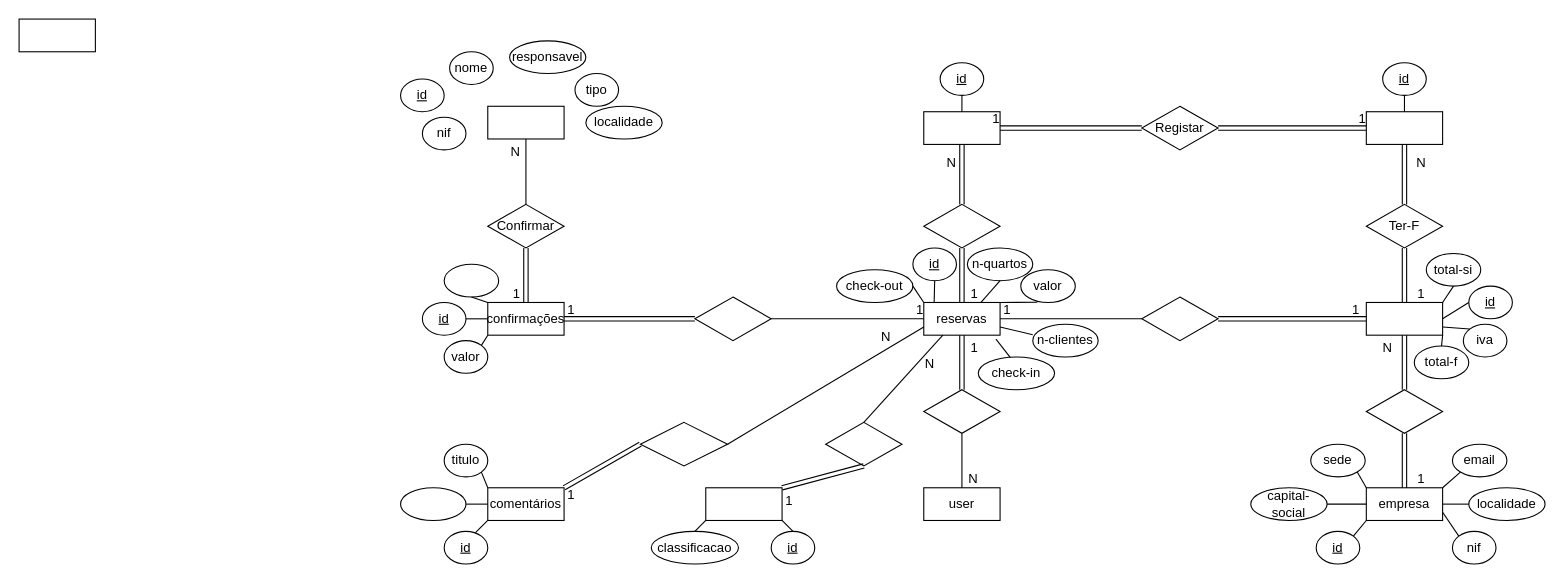
Some shapes in this 1564 by 583 pixel diagram are drawn without their labels. The centre of each missing label's shape, as x and y in pixels:
"avaliação" goes at (x=743, y=503).
"descricao" goes at (x=432, y=503).
"estado" goes at (x=471, y=280).
"Faturar" goes at (x=1179, y=318).
"faturas" goes at (x=1404, y=318).
"fornecedor" goes at (x=525, y=122).
"linhas-fatura" goes at (x=1404, y=127).
"linhas-reserva" goes at (x=961, y=127).
"Pertencer" goes at (x=1404, y=411).
"profile?" goes at (x=56, y=35).
"Receber-A" goes at (x=863, y=443).
"Receber-C" goes at (x=732, y=318).
"Receber-Co" goes at (x=683, y=443).
"Reservar" goes at (x=961, y=411).
"Ter-R" goes at (x=961, y=225).
